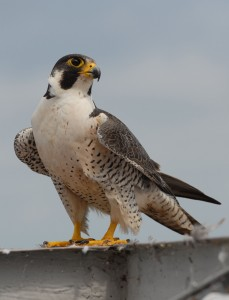Pengoyak Daging: (90, 63, 106, 84)
